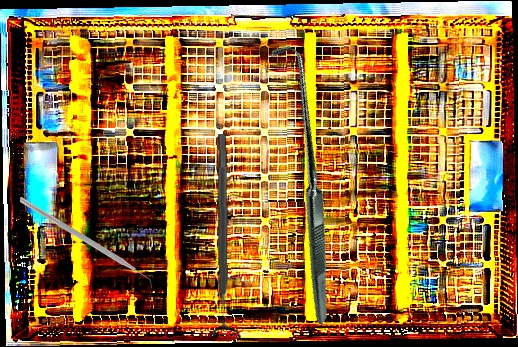Chopper: (20, 197, 152, 294)
Fixation Ring: (206, 133, 242, 339)
Hook Surgical: (160, 39, 442, 326)
